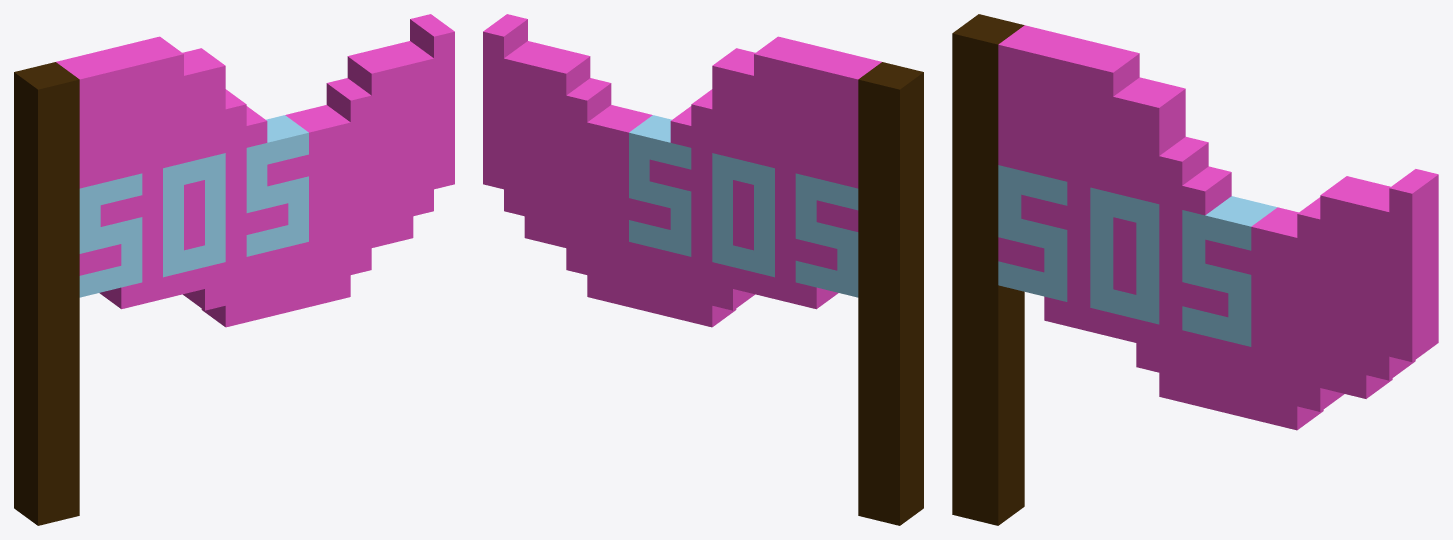
The model's file is banderita.obj.
3 renders of one model, left to right at view 1: azimuth 30°, elevation 25°; view 2: azimuth 150°, elevation 25°; view 3: azimuth 330°, elevation 25°, orthographic. The views are drawn at different scales.
Bounding box in the file's own units: 2 × 2 × 0.2.
1 material, 1 textured.
